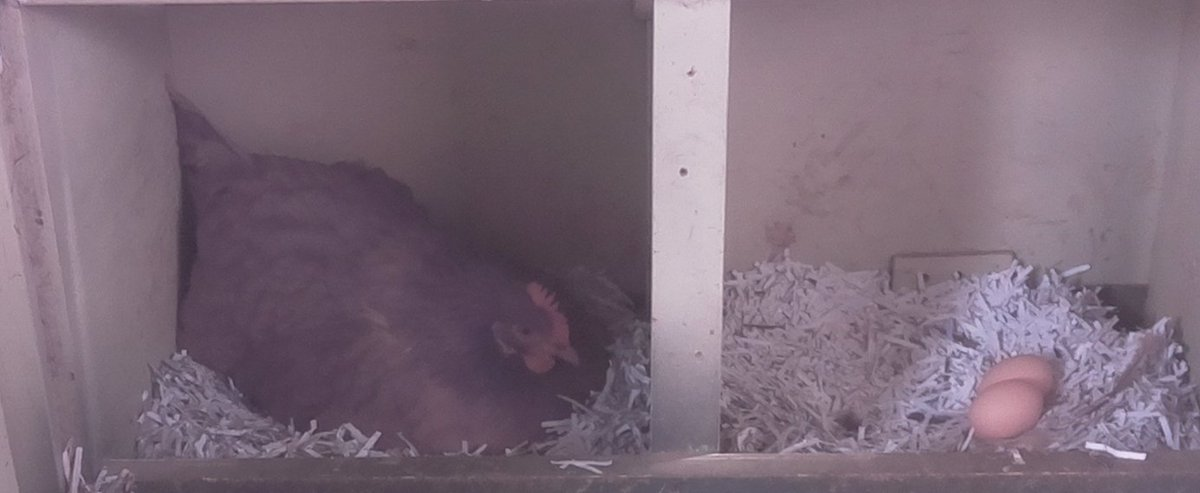egg: (964, 375, 1049, 443), (974, 353, 1057, 402)
hen: (168, 149, 621, 457)
